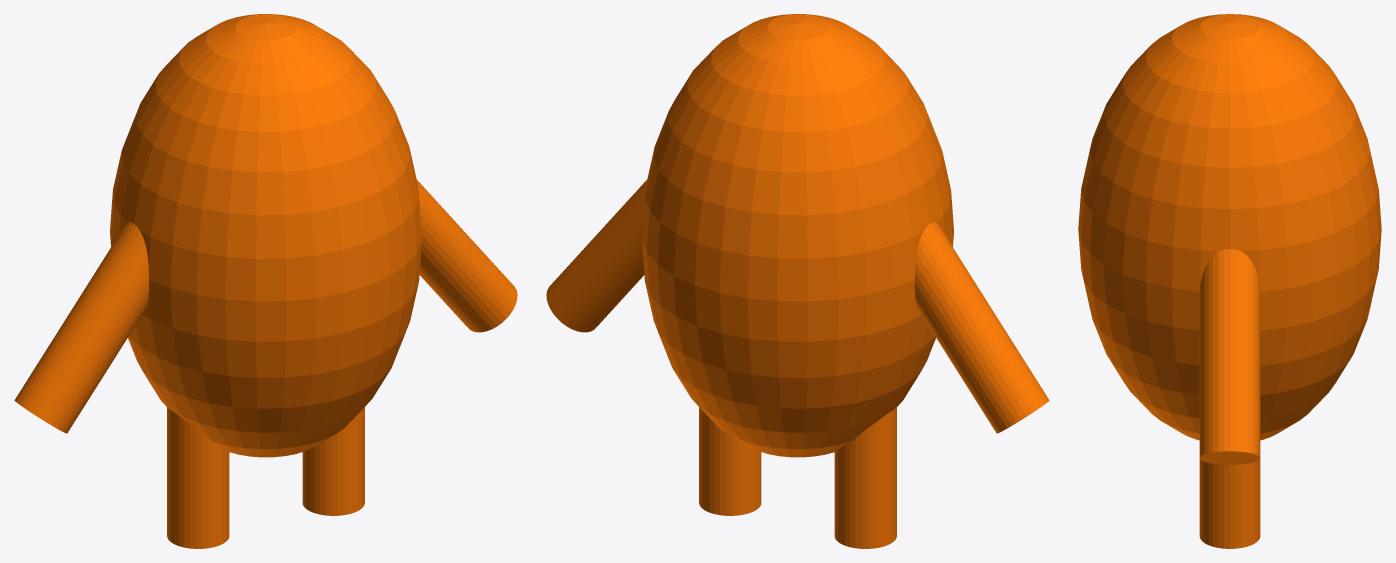
File: toon_3.glb
3 renders of one model, left to right at view 1: azimuth 30°, elevation 25°; view 2: azimuth 150°, elevation 25°; view 3: azimuth 270°, elevation 25°, orthographic. The views are drawn at different scales.
Parts seen in each view (by area): view 1: Sphere, Cylinder.003, Cylinder.002, Cylinder.001, Cylinder; view 2: Sphere, Cylinder.003, Cylinder.002, Cylinder.001, Cylinder; view 3: Sphere, Cylinder.002, Cylinder.
Part boxes in pixels (x1,y1,x2,y2): Sphere: (110, 14, 421, 457); Cylinder.003: (14, 222, 149, 433); Cylinder.002: (416, 179, 517, 332); Cylinder.001: (167, 407, 229, 548); Cylinder: (302, 407, 364, 515); Sphere: (642, 14, 953, 457); Cylinder.003: (914, 222, 1049, 433); Cylinder.002: (546, 179, 647, 332); Cylinder.001: (834, 407, 896, 548); Cylinder: (699, 407, 761, 515); Sphere: (1078, 14, 1381, 440); Cylinder.002: (1199, 249, 1260, 464); Cylinder: (1199, 459, 1260, 548).
Size of the model in its own units: 1.82 by 1.75 by 1.
